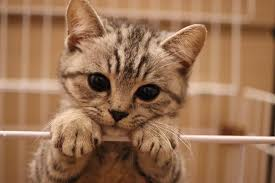cat: (49, 1, 214, 131)
